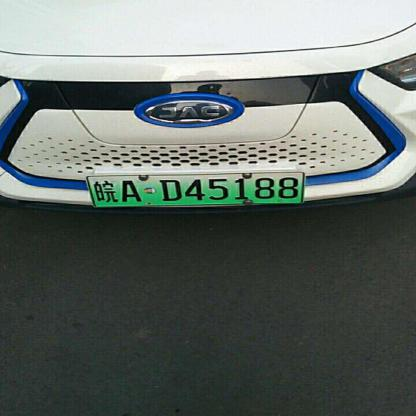lp: (85, 173, 304, 206)
